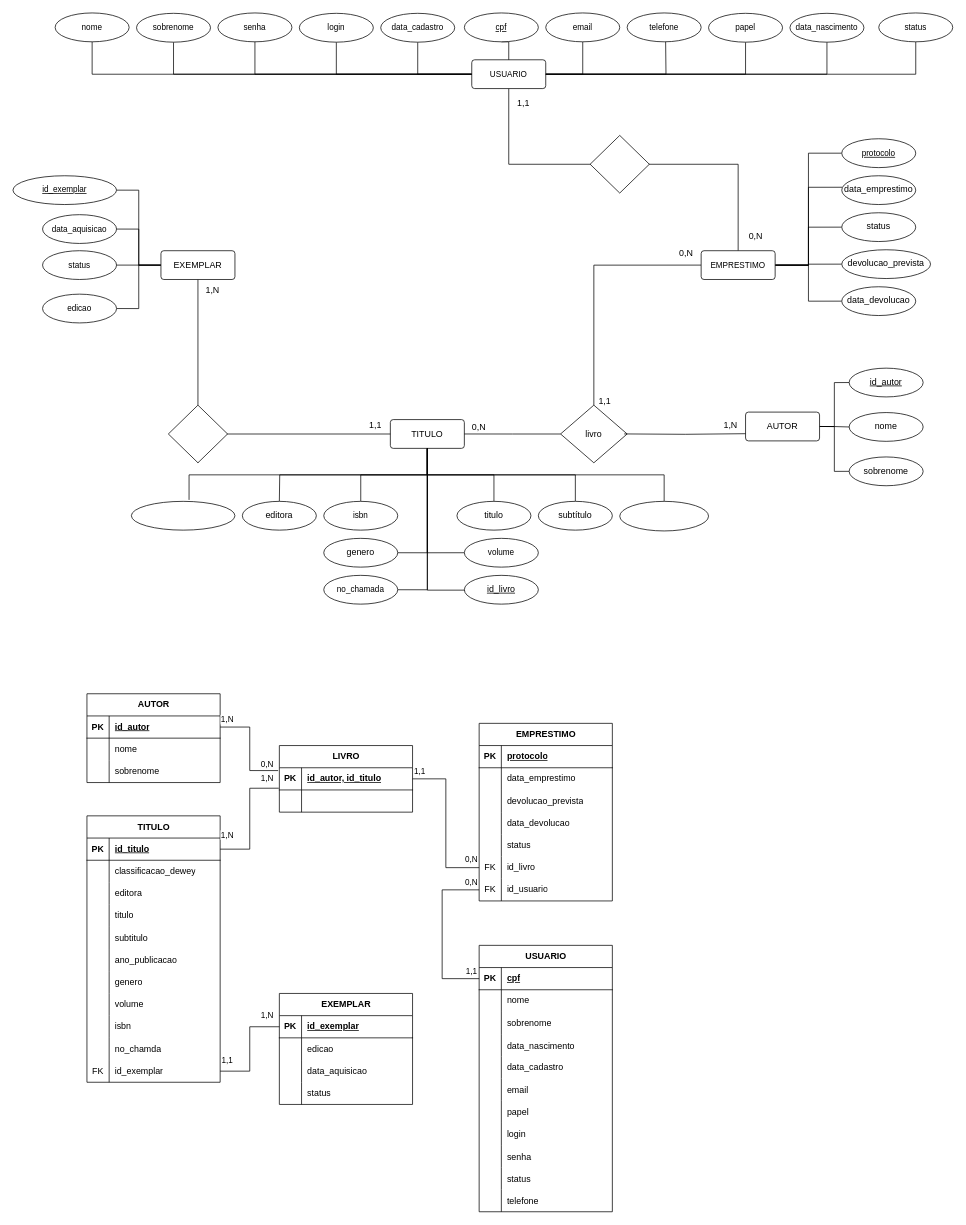
The diagram is 966 pixels wide and 1225 high, and some of its shapes have lost their labels. The shapes that lost their labels are listed below. From the top down, each one's box as (x1, y1, x2, y2) in pixels, then its label:
(589, 135, 649, 193): faz
(168, 404, 228, 463): possui
(131, 501, 235, 530): classificação_de_dewey
(619, 501, 709, 531): ano_de_publicacao
